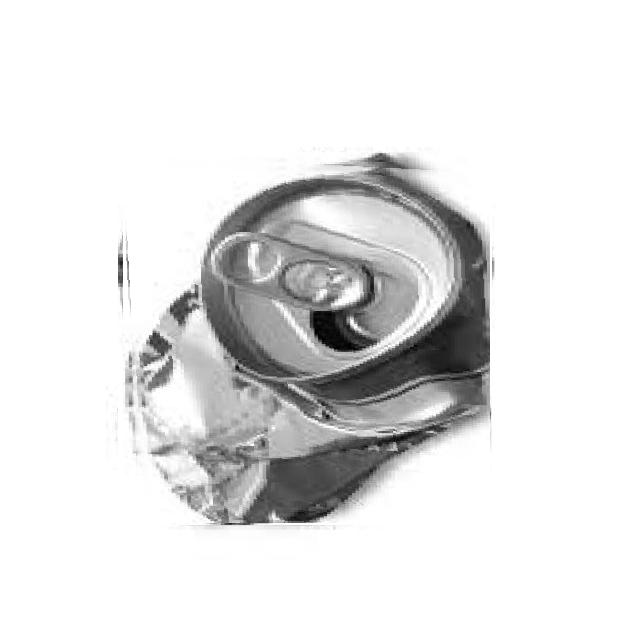recyclable: (121, 154, 490, 523)
